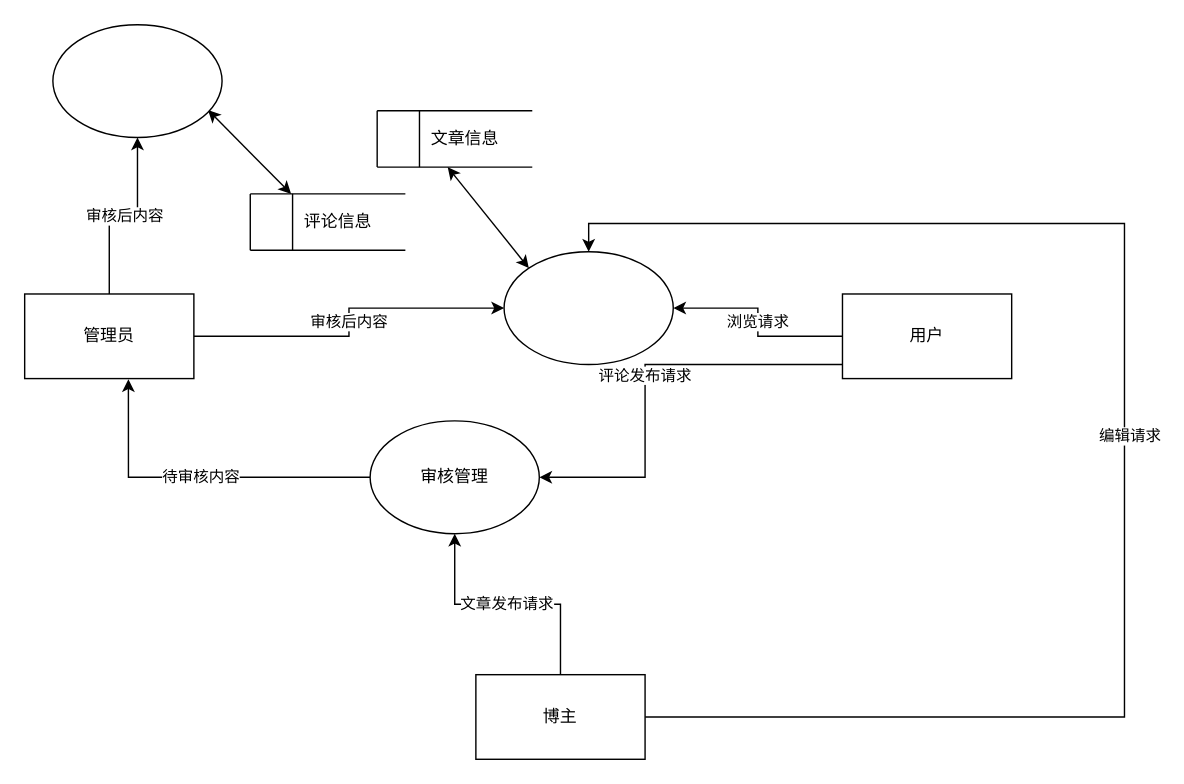
Some shapes in this 1184 by 784 pixel diagram are drawn without their labels. Each missing label, with the box of its shape:
文章管理: (503, 250, 673, 364)
评论管理: (51, 23, 222, 137)
